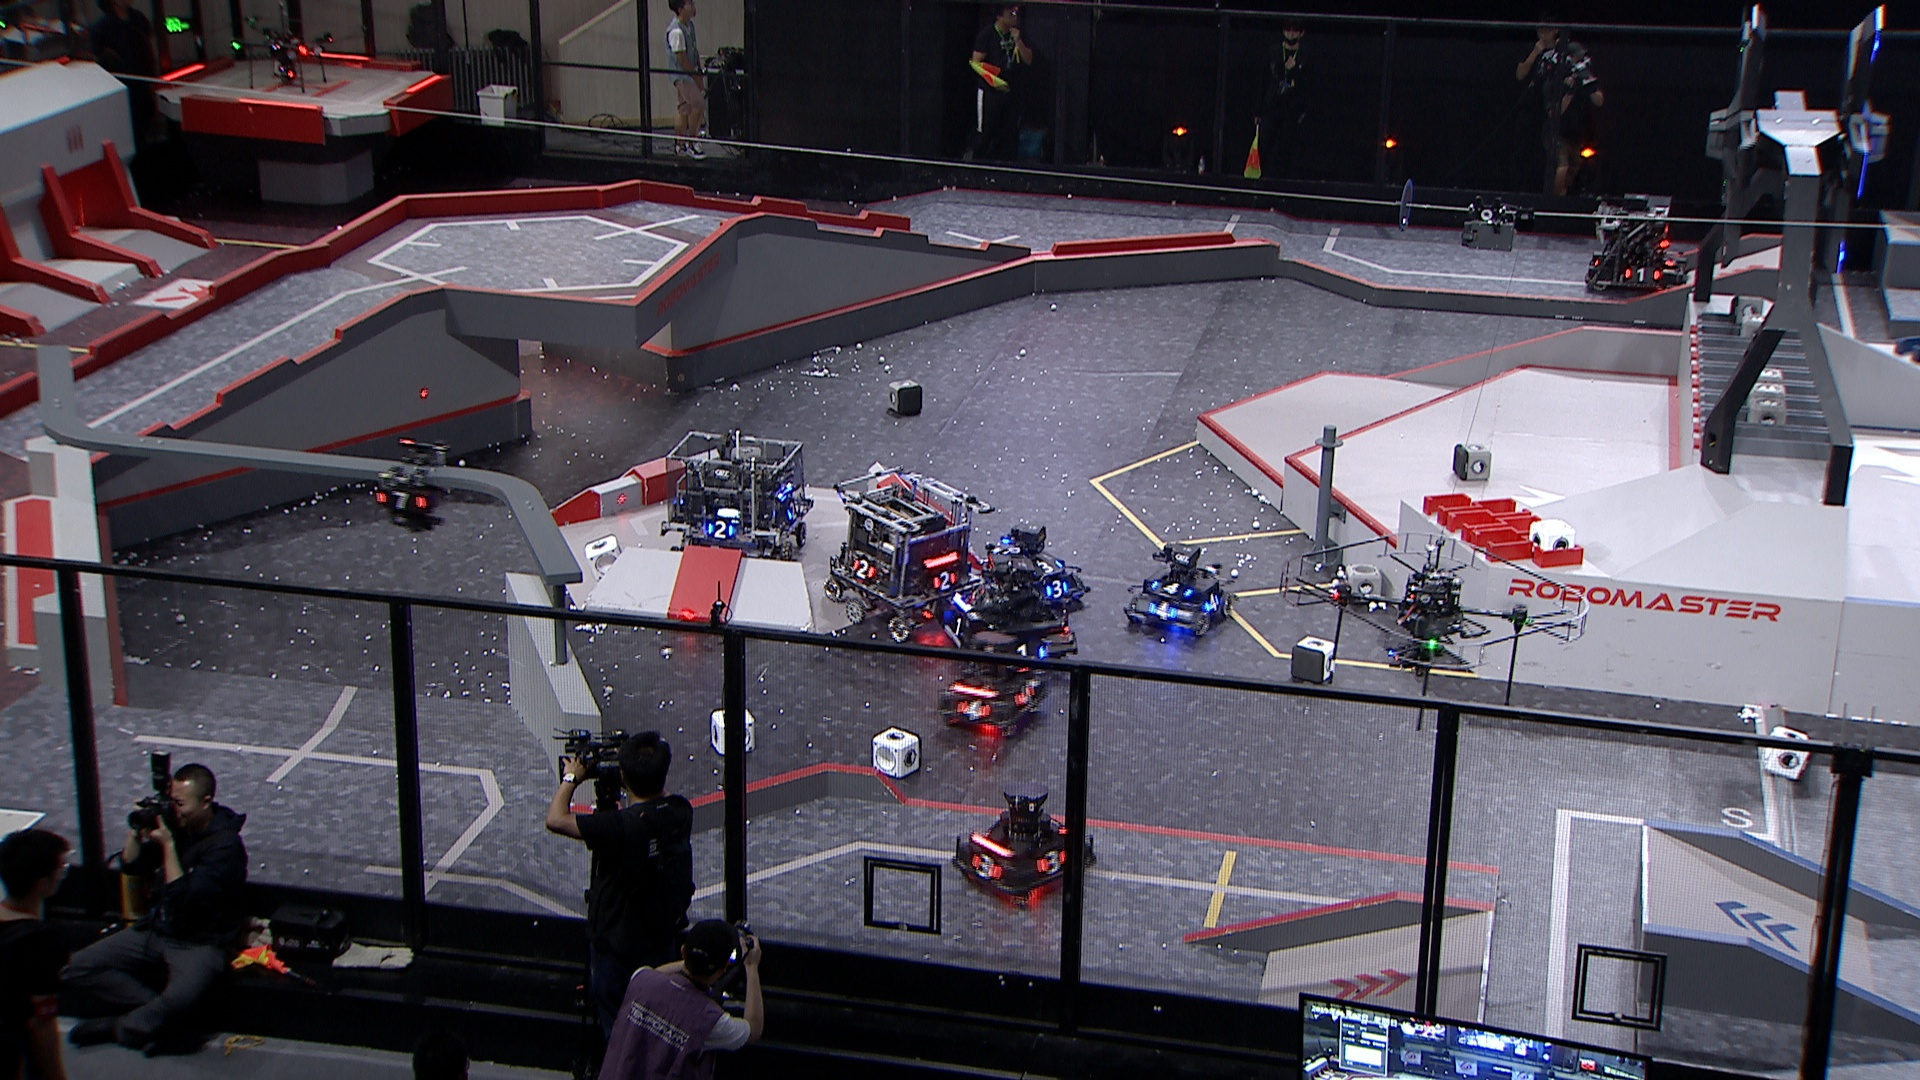armor: (373, 488, 429, 510), (971, 851, 1004, 884), (942, 612, 972, 641), (1034, 849, 1067, 876), (1149, 578, 1192, 597), (1145, 599, 1179, 622), (955, 698, 992, 719), (1625, 266, 1662, 286), (704, 518, 736, 541), (1005, 642, 1046, 659), (851, 556, 877, 583), (1033, 559, 1063, 579), (1043, 578, 1069, 600), (931, 570, 957, 591), (1015, 680, 1034, 708), (1204, 591, 1221, 615), (783, 500, 800, 520)
car: (828, 465, 988, 637), (659, 429, 818, 562), (945, 781, 1098, 899), (936, 549, 1079, 669), (930, 624, 1048, 740), (1122, 537, 1245, 640), (977, 520, 1091, 615), (1582, 193, 1685, 291)
watcher: (372, 436, 454, 535)
